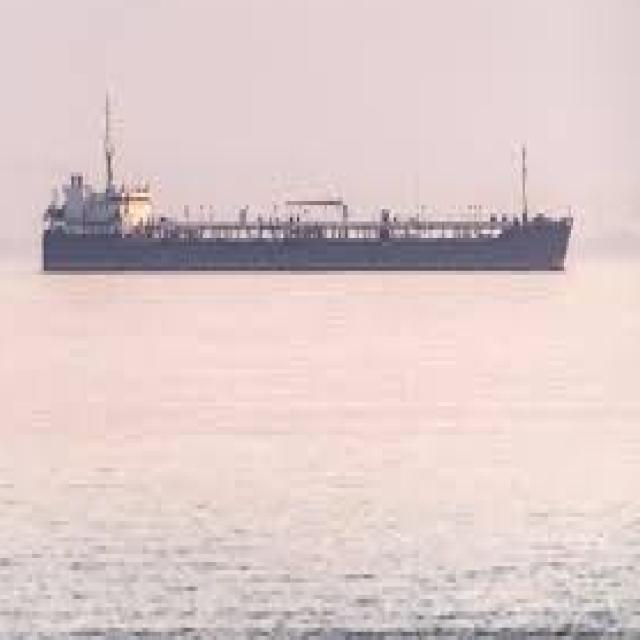cargoship: (38, 90, 576, 272)
